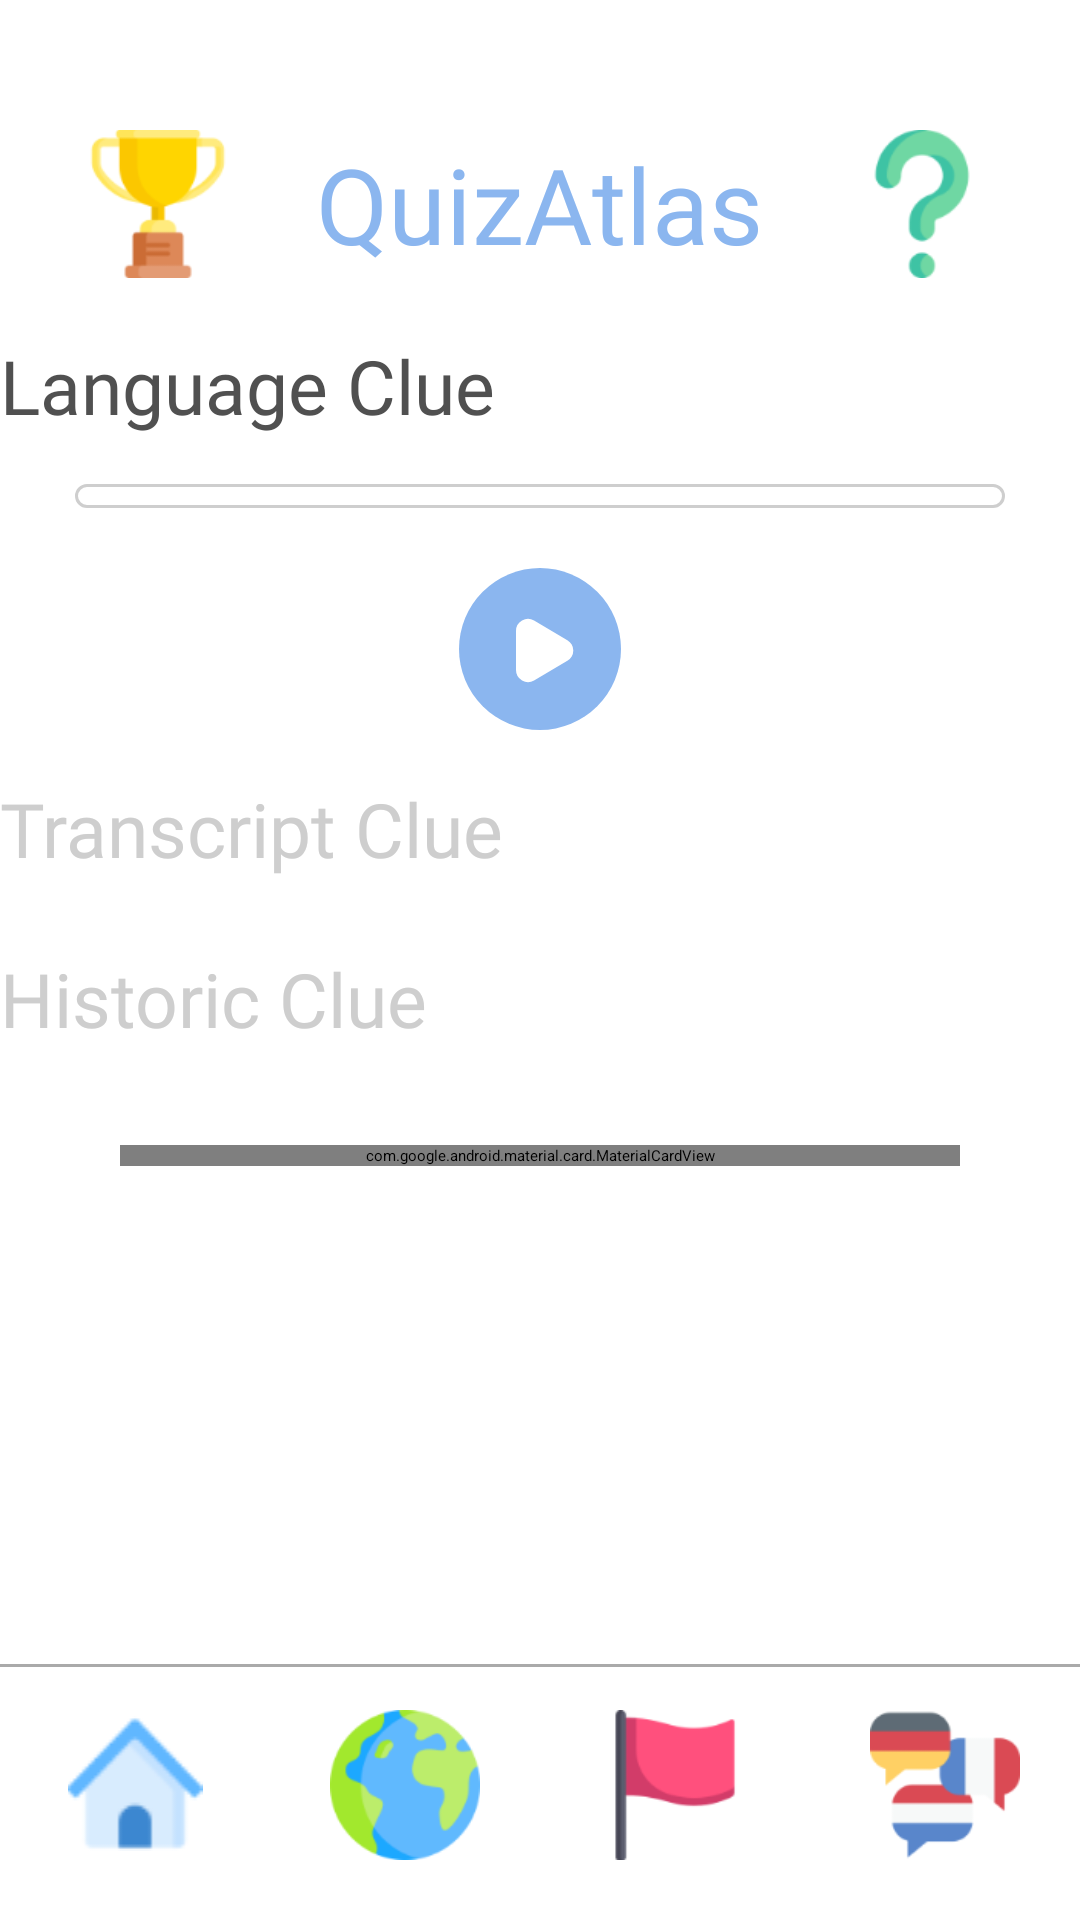

Named icons in this screenshot (1080px x 1920px) and their bounding boxes, detection(x1, y1, x2, y2):
earth: detection(330, 1710, 480, 1860)
flag: detection(615, 1710, 735, 1860)
home: detection(68, 1718, 203, 1849)
language: detection(870, 1711, 1020, 1857)
language play: detection(459, 568, 621, 730)
questionmark: detection(874, 130, 970, 278)
trophy: detection(91, 130, 225, 278)
